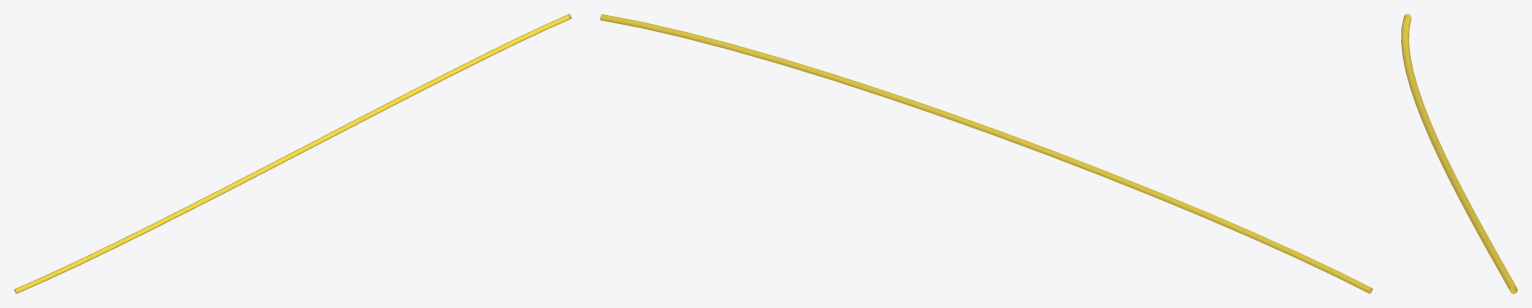
File: Event_17758602_track_109.fbx
3 renders of one model, left to right at view 1: azimuth 30°, elevation 25°; view 2: azimuth 150°, elevation 25°; view 3: azimuth 270°, elevation 25°, orthographic. The views are drawn at different scales.
Parts seen in each view (by area): view 1: Model; view 2: Model; view 3: Model.
Boxes of the visible parts, x1,y1,x2,y2 form: Model: (14, 14, 571, 293); Model: (600, 14, 1372, 293); Model: (1401, 14, 1517, 293).
Size of the model in its own units: 5.1 by 0.9033 by 0.5861.
